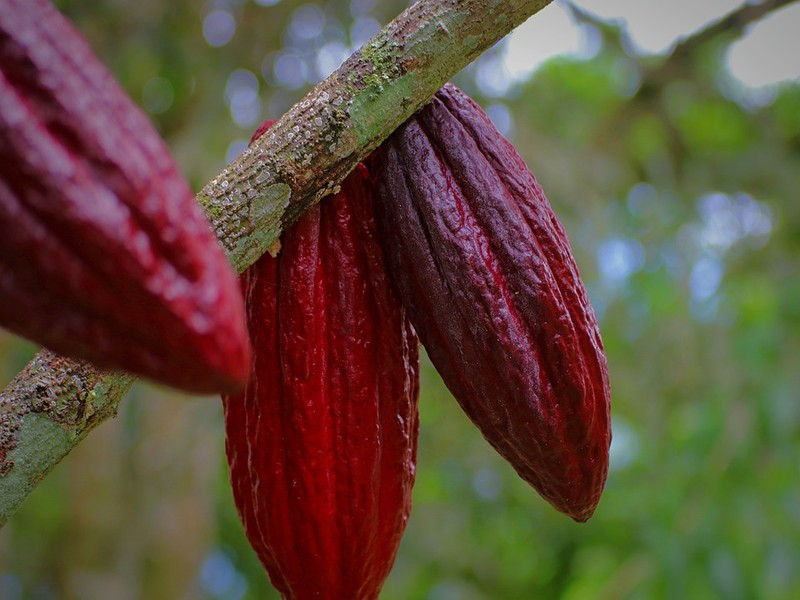Cacaopod: (381, 66, 616, 526), (1, 2, 257, 399), (219, 119, 422, 599)
